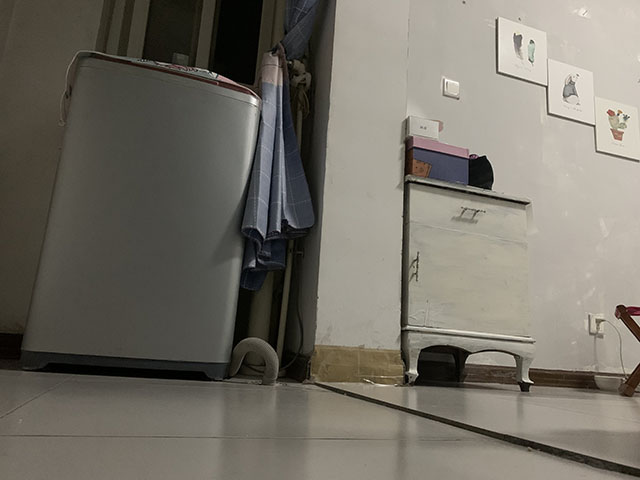cabinet: (403, 174, 536, 392)
curtain: (245, 1, 326, 292)
stool: (612, 303, 640, 397)
wire: (596, 317, 629, 381)
